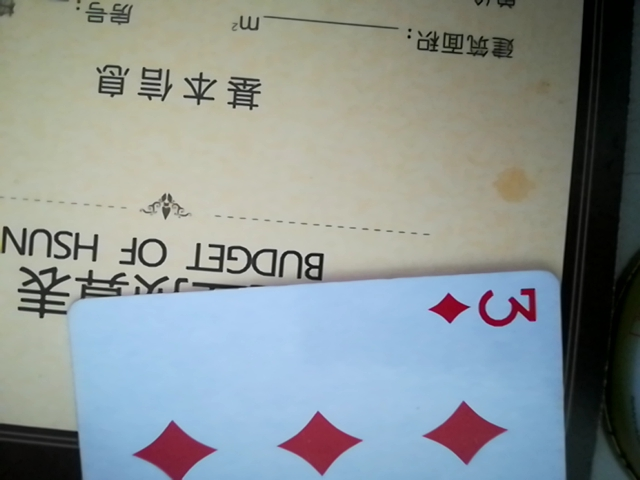fk 3: (63, 258, 574, 478)
